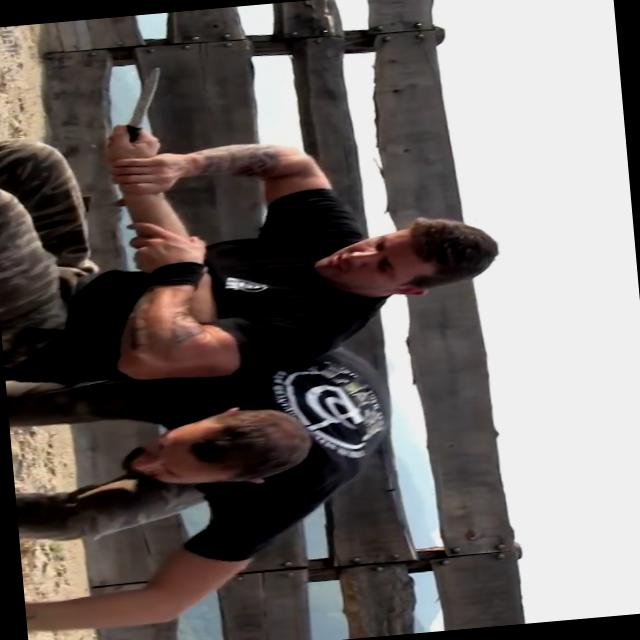knife: (89, 60, 178, 155)
